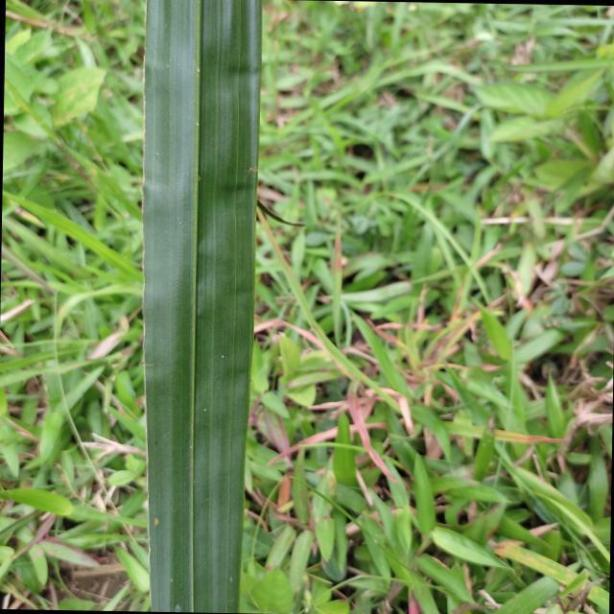Boron: (146, 0, 262, 614)
